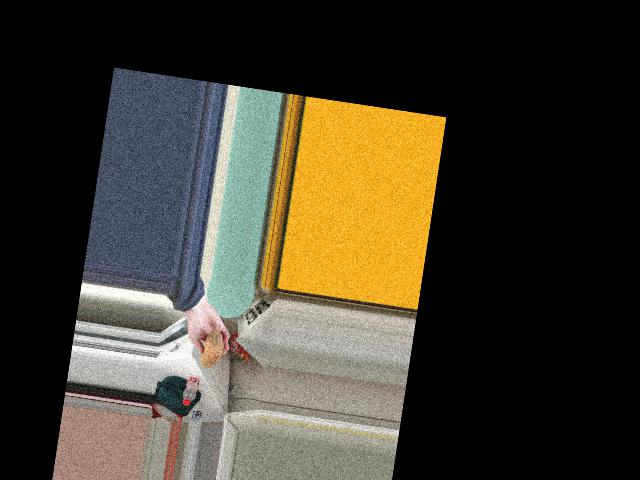sweet_potato: (197, 322, 224, 371)
